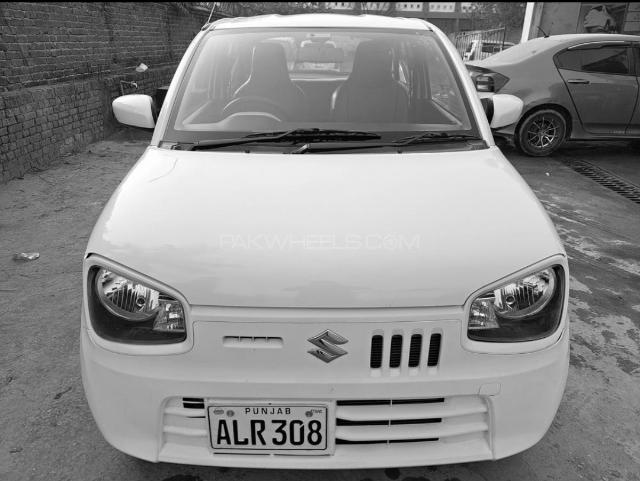Number: (212, 416, 328, 448)
